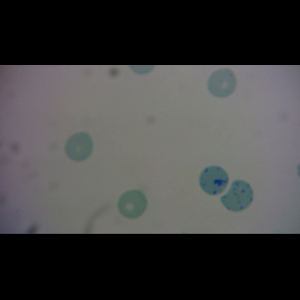aggregate reticulocyte: (199, 166, 230, 197)
erythrocyte: (116, 189, 148, 220)
punctate reticulocyte: (219, 179, 255, 212), (206, 67, 238, 98), (64, 132, 95, 162)
